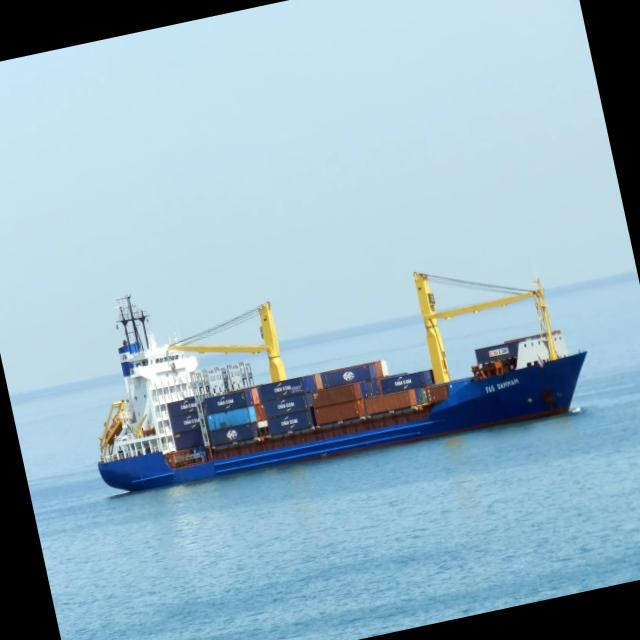Cargo: (97, 272, 585, 491)
